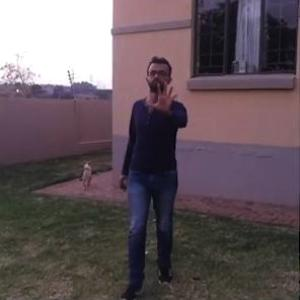follow_hand: (145, 77, 184, 121)
